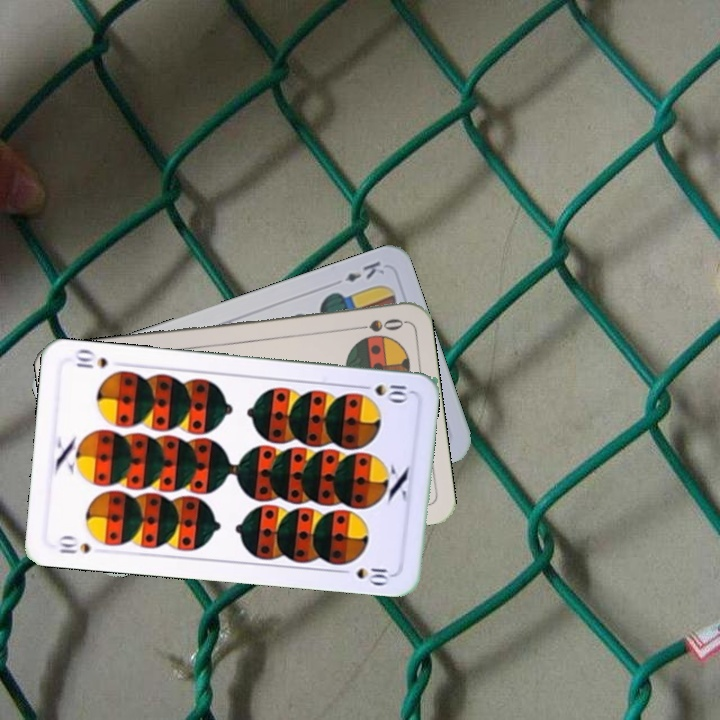EK: (341, 256, 387, 285)
S10: (354, 380, 413, 403), (55, 532, 93, 556)
SO: (347, 314, 406, 334)
